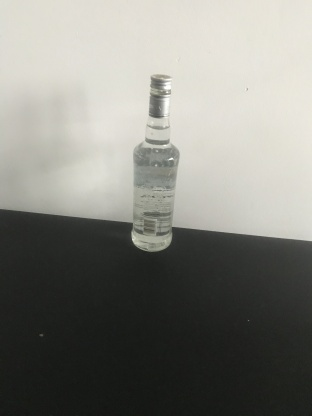nakretka: (147, 71, 173, 117)
